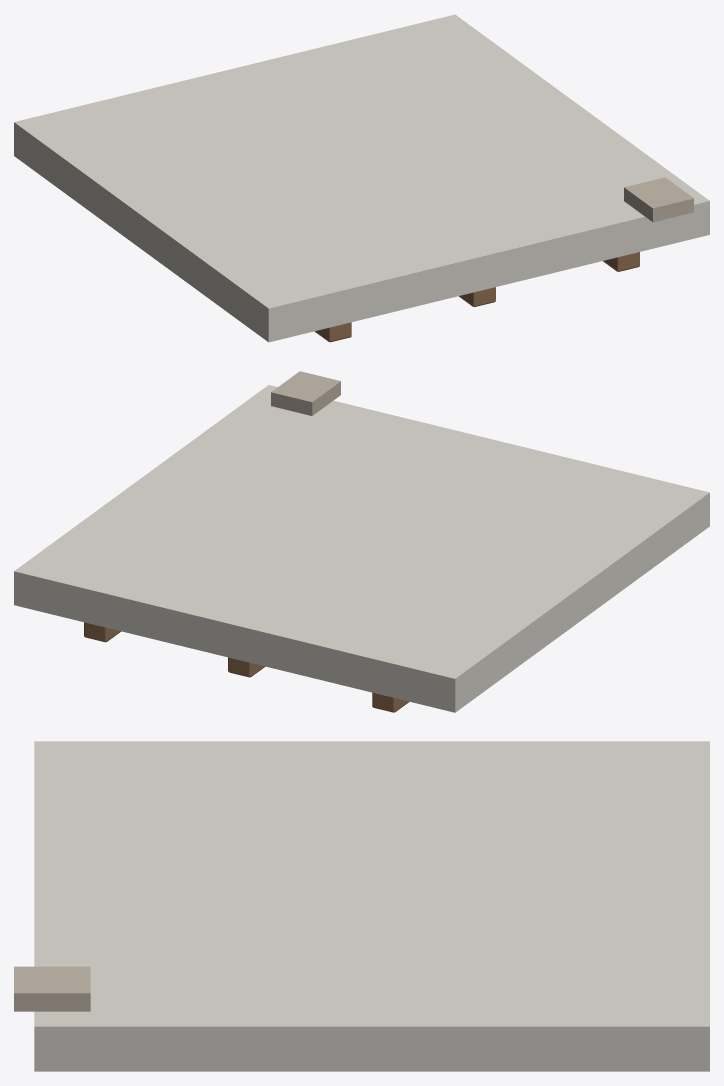
The model's file is flat-roof-slab-10f24329.glb.
The picture shows the model from 3 angles, top to bottom: view 1: azimuth 30°, elevation 25°; view 2: azimuth 150°, elevation 25°; view 3: azimuth 270°, elevation 25°; orthographic projection. The views are drawn at different scales.
Parts seen in each view (by area): view 1: flat-roof-slab; view 2: flat-roof-slab; view 3: flat-roof-slab.
Boxes of the visible parts, left/top/right/bottom form: flat-roof-slab: left=14, top=14, right=709, bottom=342; flat-roof-slab: left=14, top=371, right=709, bottom=712; flat-roof-slab: left=14, top=741, right=709, bottom=1071.
Size of the model in its own units: 3 by 0.4399 by 3.09.
